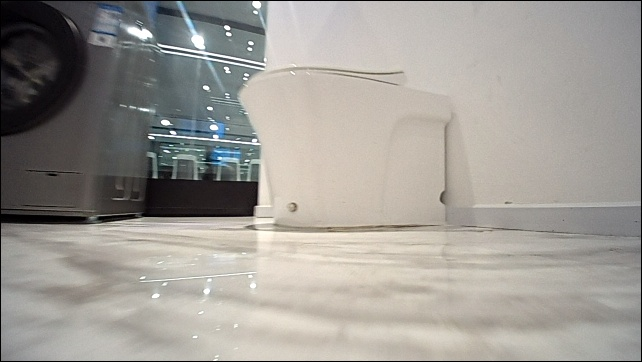toilet: (229, 62, 453, 232)
washing_machine1: (0, 3, 165, 221)
